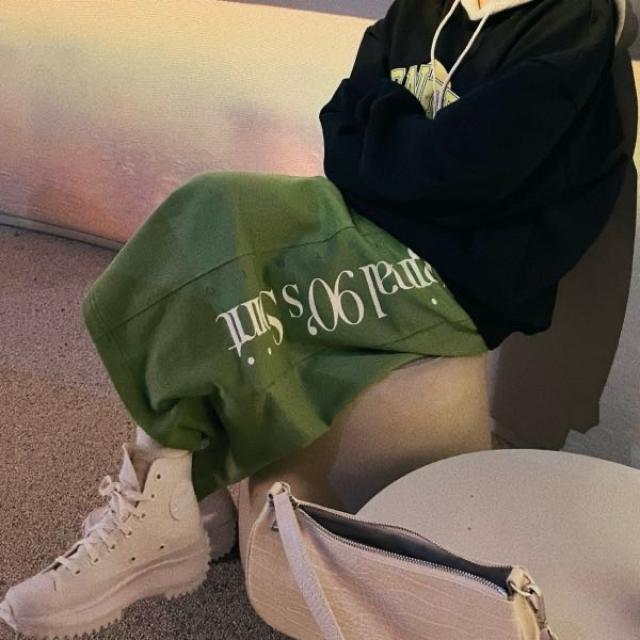hoodies: (317, 0, 627, 349)
skirt: (81, 169, 488, 501)
